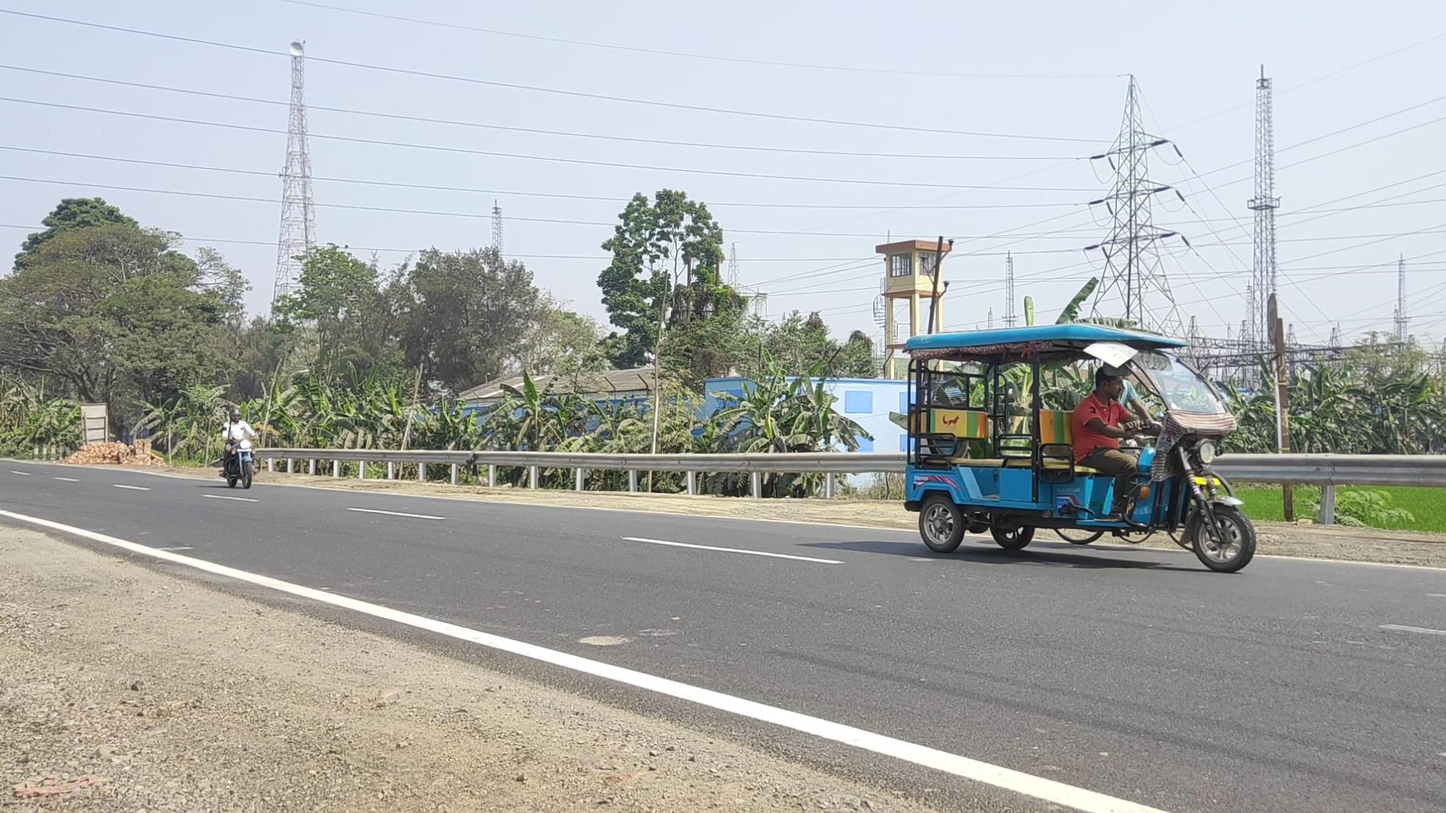Auto: (904, 323, 1256, 574)
bike: (218, 408, 260, 489)
